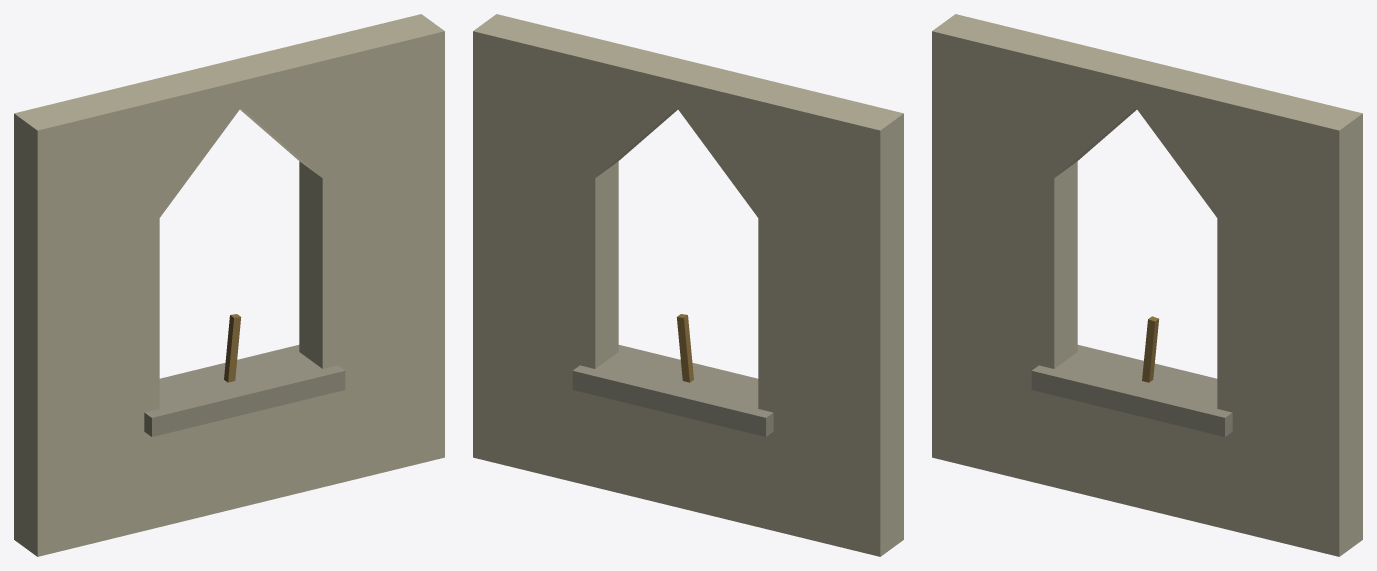
Rendered from WP_A13_wind_window_broken_v02.glb.
The picture shows the model from 3 angles, left to right: view 1: azimuth 30°, elevation 25°; view 2: azimuth 150°, elevation 25°; view 3: azimuth 330°, elevation 25°; orthographic projection.
Parts seen in each view (by area): view 1: WindowWall.001; view 2: WindowWall.001; view 3: WindowWall.001.
Boxes of the visible parts, bbox=[...] form: WindowWall.001: bbox=[14, 14, 444, 556]; WindowWall.001: bbox=[473, 14, 903, 556]; WindowWall.001: bbox=[932, 14, 1362, 556].
Bounding box in the file's own units: 4 × 4 × 0.65.
